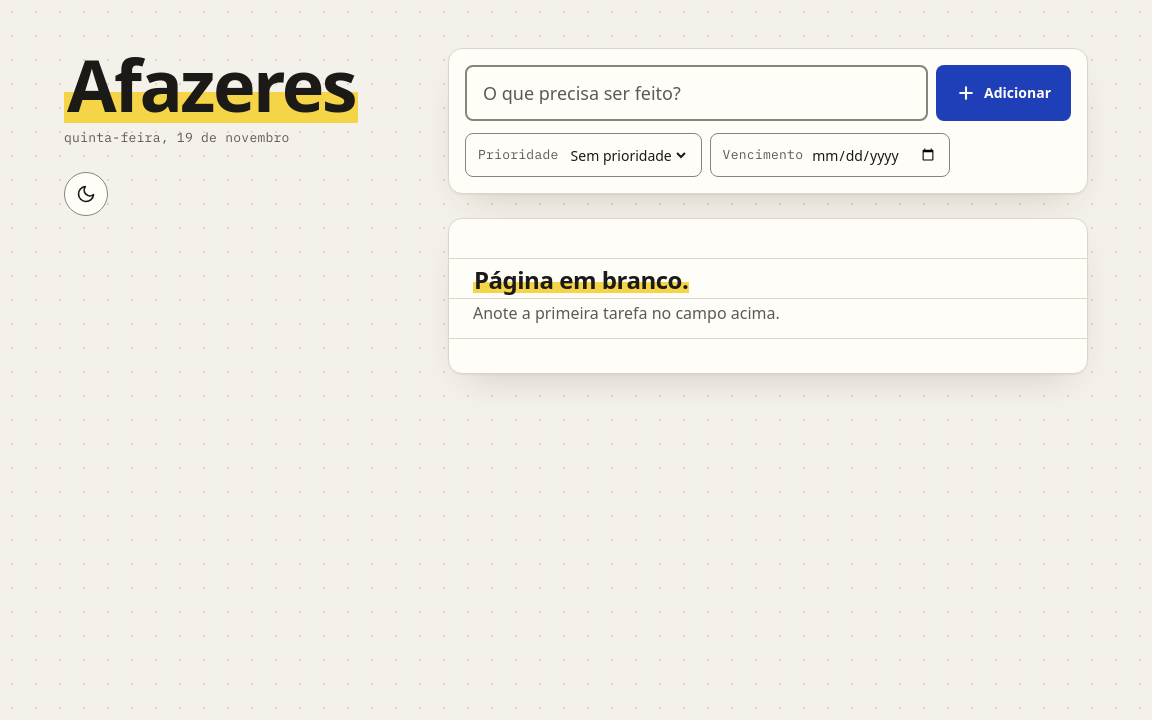
criar › cria com prioridade e vencimento e reseta as opções
The image size is (1152, 720).
Select "Alta" in the dropdown labelled "Prioridade" at (628, 155), box 567,135 -> 689,175
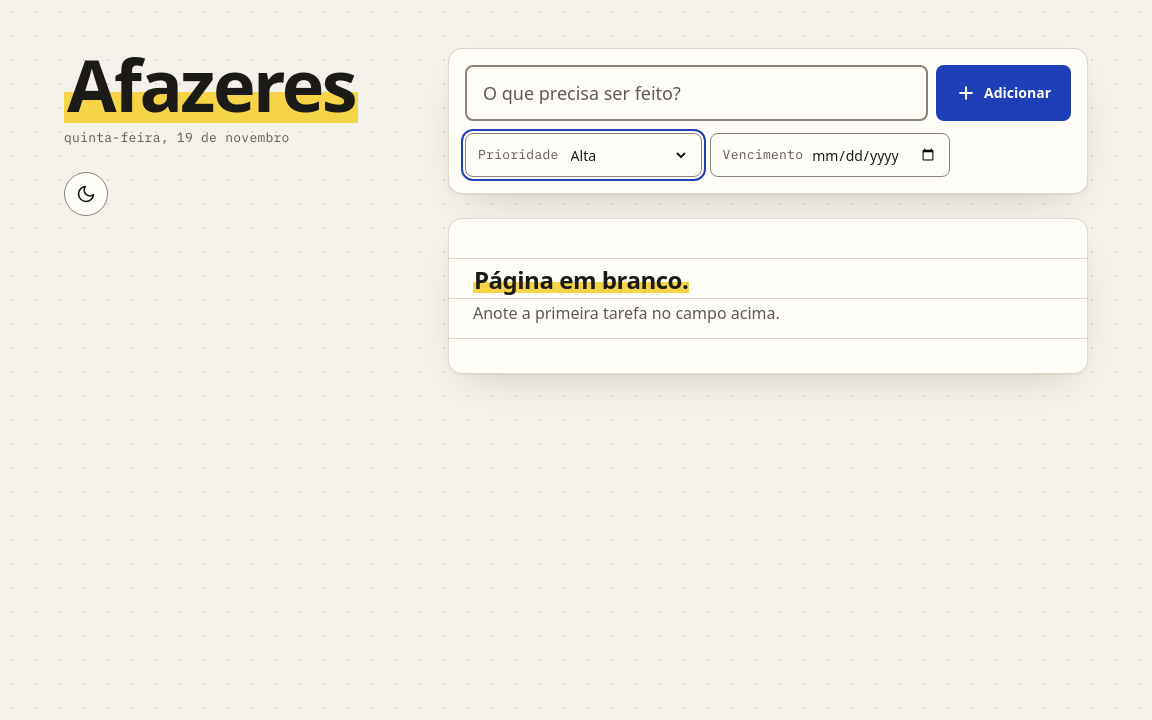
Type "2020-01-02" into the date field labelled "Vencimento" at (874, 155), box 811,135 -> 937,175
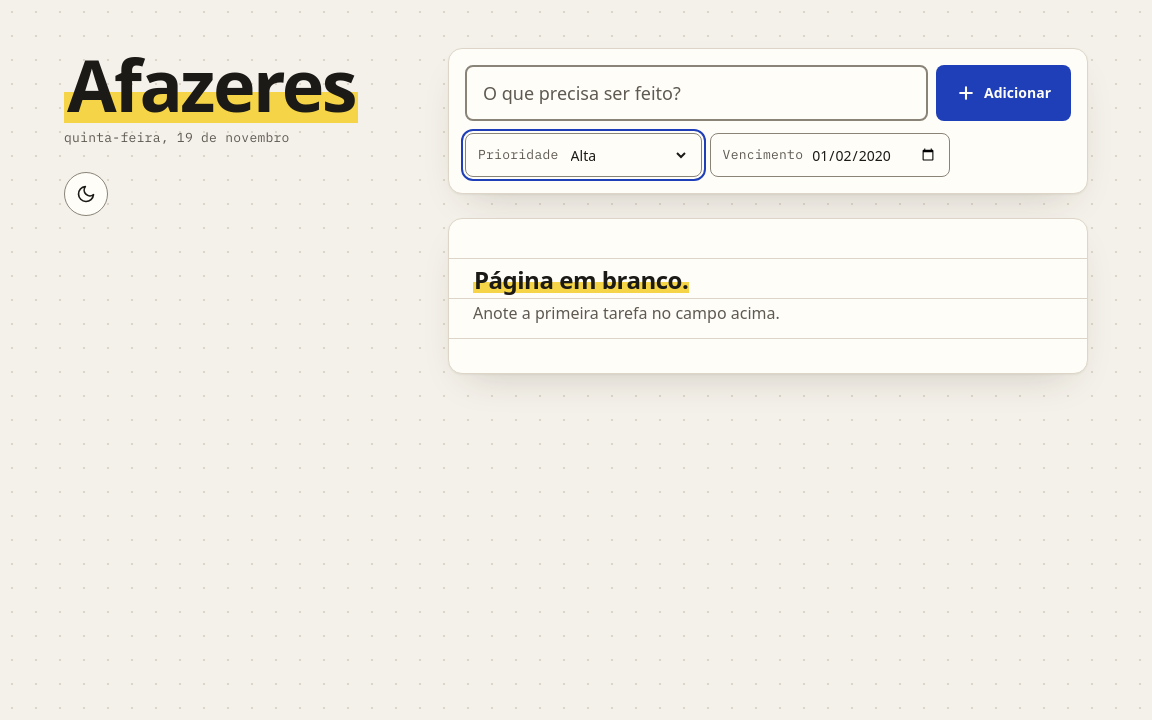
Type "Pagar boleto" into the field named "Nova tarefa" at (697, 93), box 465,65 -> 928,121
Then press Enter
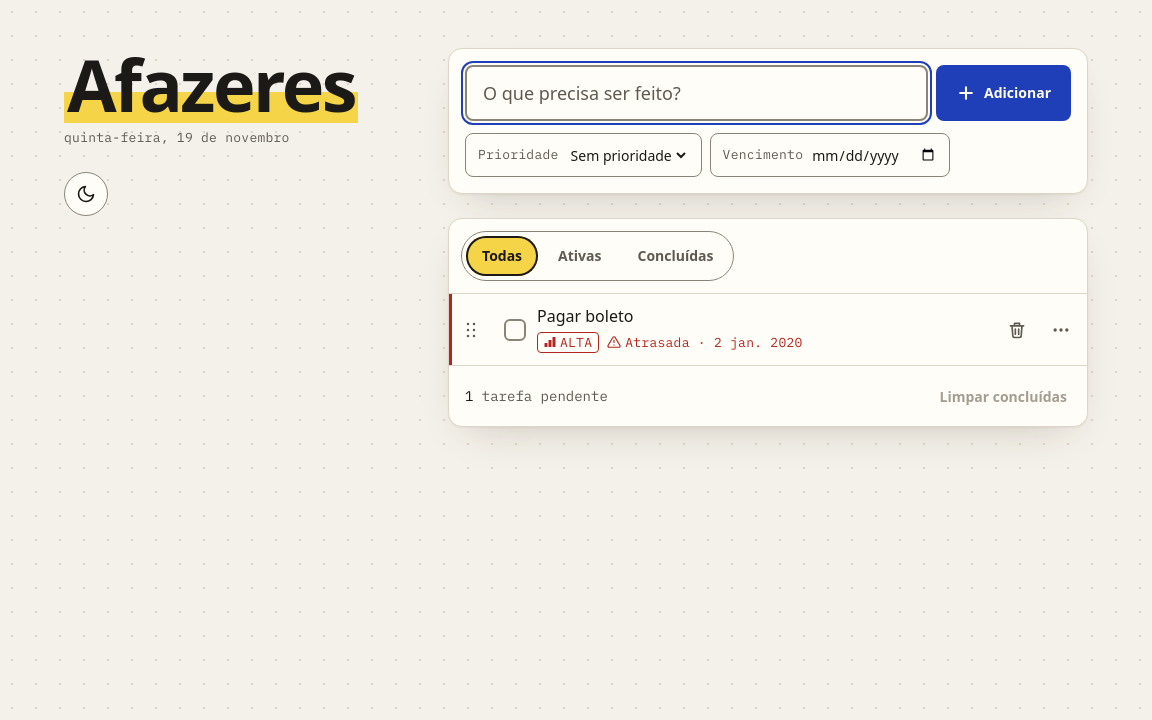
Expected: the text "Atrasada · 2 jan. 2020" is shown, 625,335 -> 803,350
Expected: the date field labelled "Vencimento" is empty, 811,135 -> 937,175
